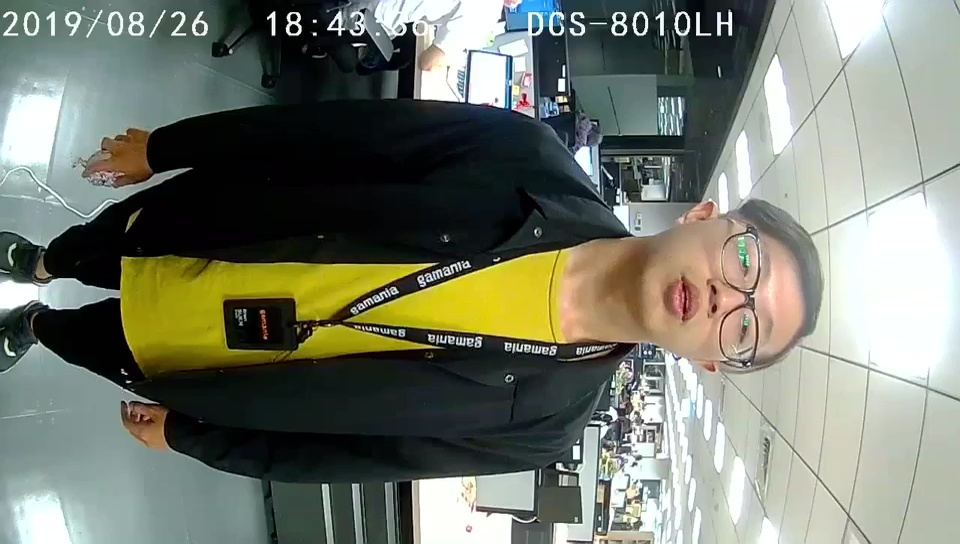pig: (82, 146, 123, 185)
